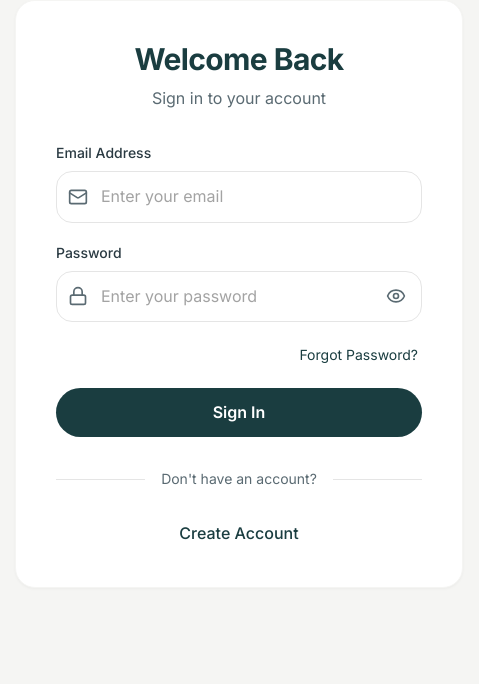
Test case: AuthForm Component › Form validation › should show error for short password
The image size is (479, 684).
Type "test@example.com" into the field labelled "Email Address".
click(239, 197); type("test@example.com")  # box [56, 171, 422, 223]
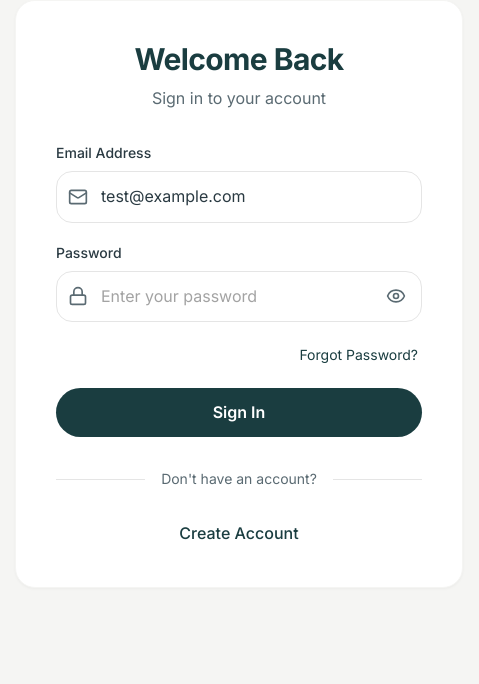
Type "12345" into the password field labelled "Password".
click(239, 296); type("12345")  # box [56, 271, 422, 322]
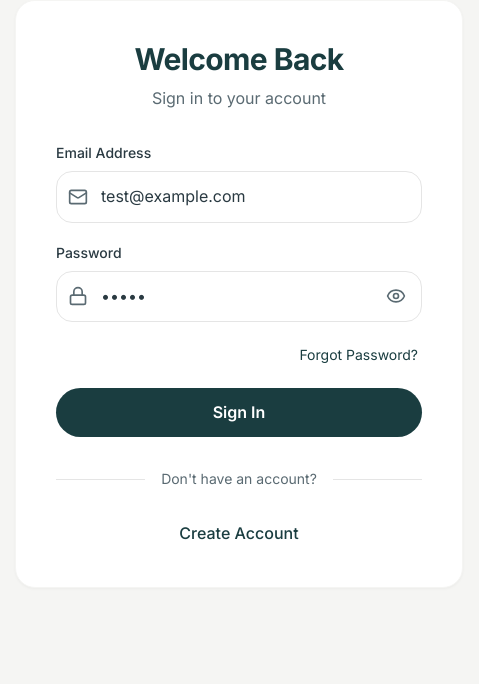
Submit the form labelled "Email Address Password Forgot Password? Sign In", box [56, 143, 422, 437]
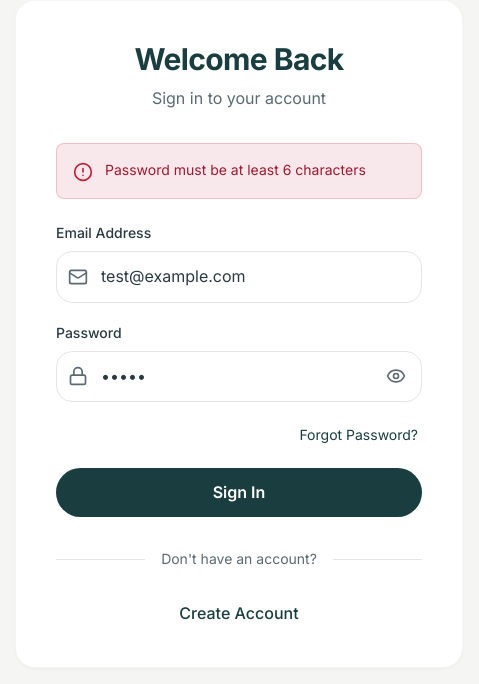
Check: the text "Password must be at least 6 characters" is shown, box [105, 160, 366, 180]
